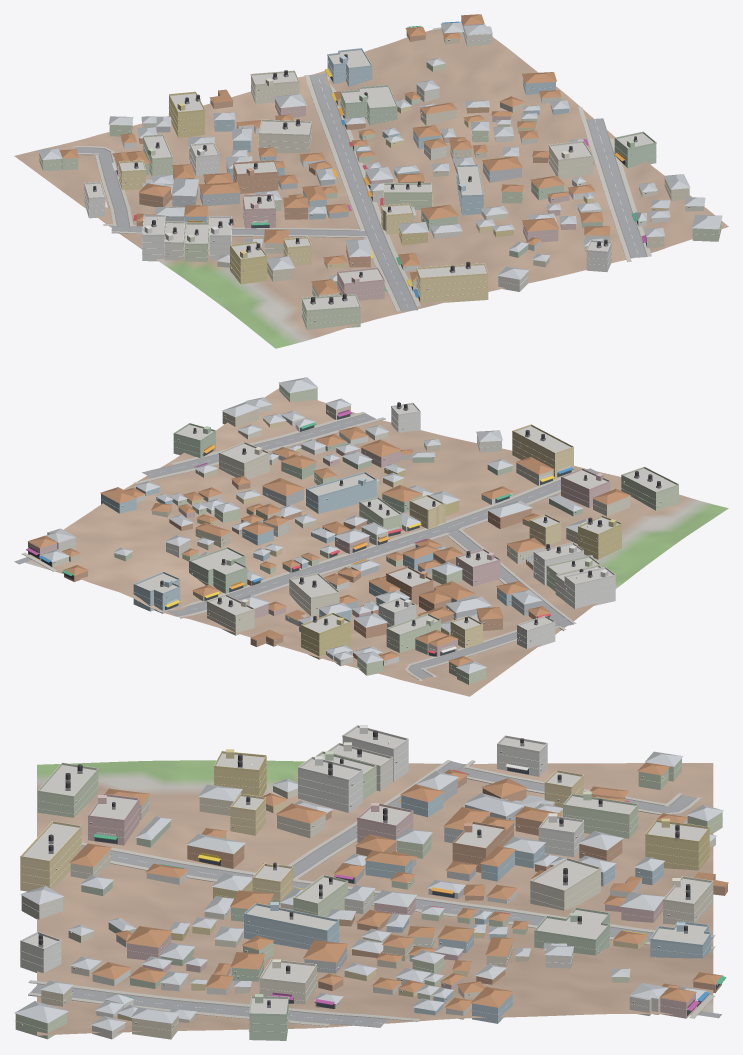
3 views of the same model, one above another, from view 1: azimuth 30°, elevation 25°; view 2: azimuth 150°, elevation 25°; view 3: azimuth 270°, elevation 25° (orthographic). The views are drawn at different scales.
Visible parts, largest first — view 1: Buildings-col, Terrain-col, Details, Roads-col, Sidewalks-col; view 2: Buildings-col, Terrain-col, Details, Roads-col, Sidewalks-col; view 3: Buildings-col, Terrain-col, Details, Roads-col, Sidewalks-col.
Boxes of the visible parts, left/top/right/bottom form: Buildings-col: left=38, top=14, right=722, bottom=329; Terrain-col: left=14, top=21, right=728, bottom=348; Details: left=39, top=21, right=721, bottom=324; Roads-col: left=75, top=74, right=647, bottom=311; Sidewalks-col: left=72, top=27, right=651, bottom=311; Buildings-col: left=27, top=377, right=678, bottom=684; Terrain-col: left=25, top=388, right=728, bottom=696; Details: left=26, top=389, right=678, bottom=679; Roads-col: left=14, top=413, right=598, bottom=679; Sidewalks-col: left=22, top=412, right=604, bottom=680; Buildings-col: left=14, top=727, right=728, bottom=1040; Terrain-col: left=37, top=760, right=713, bottom=1035; Details: left=15, top=725, right=726, bottom=1032; Roads-col: left=30, top=761, right=721, bottom=1027; Sidewalks-col: left=28, top=760, right=715, bottom=1026.
Size of the model in its own units: 268 by 24.11 by 271.
